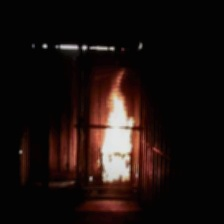fire: (96, 81, 136, 185)
